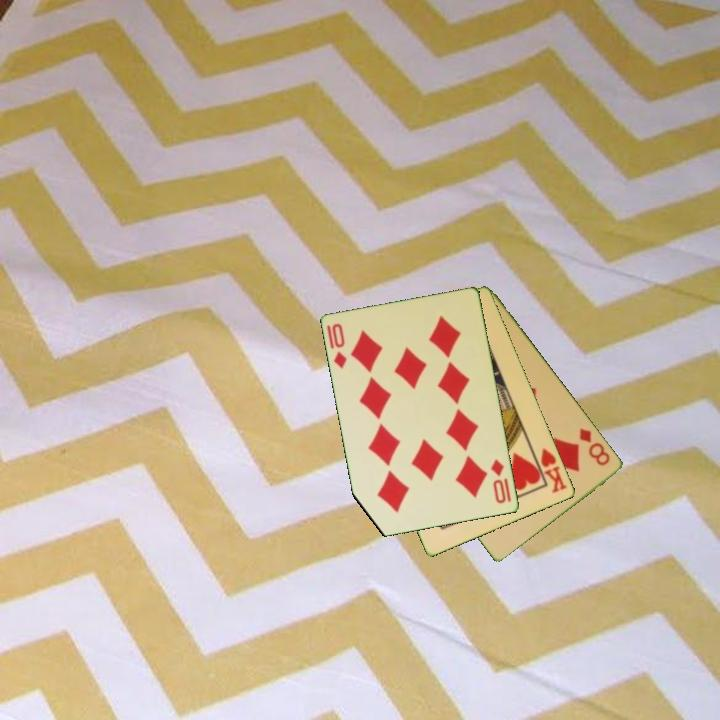10d: (323, 320, 350, 372), (487, 456, 509, 507)
8d: (576, 424, 613, 469)
Kh: (529, 445, 570, 496)
